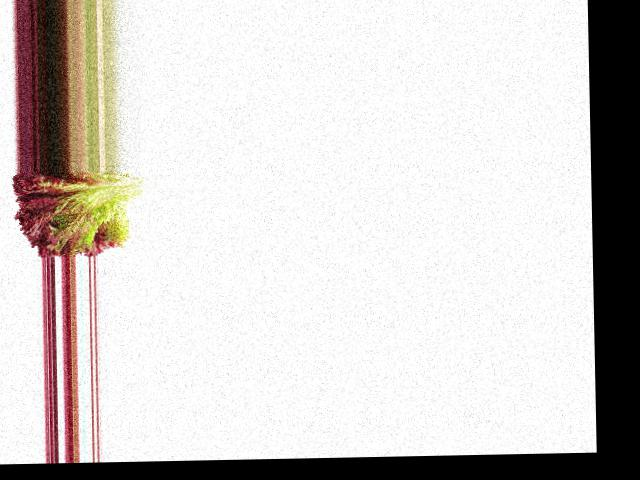lettuce: (4, 170, 149, 256)
